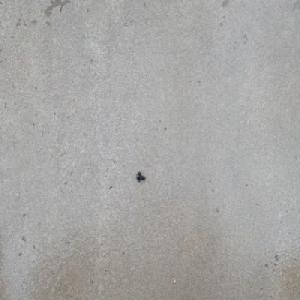BoltWasher: (136, 171, 145, 182)
